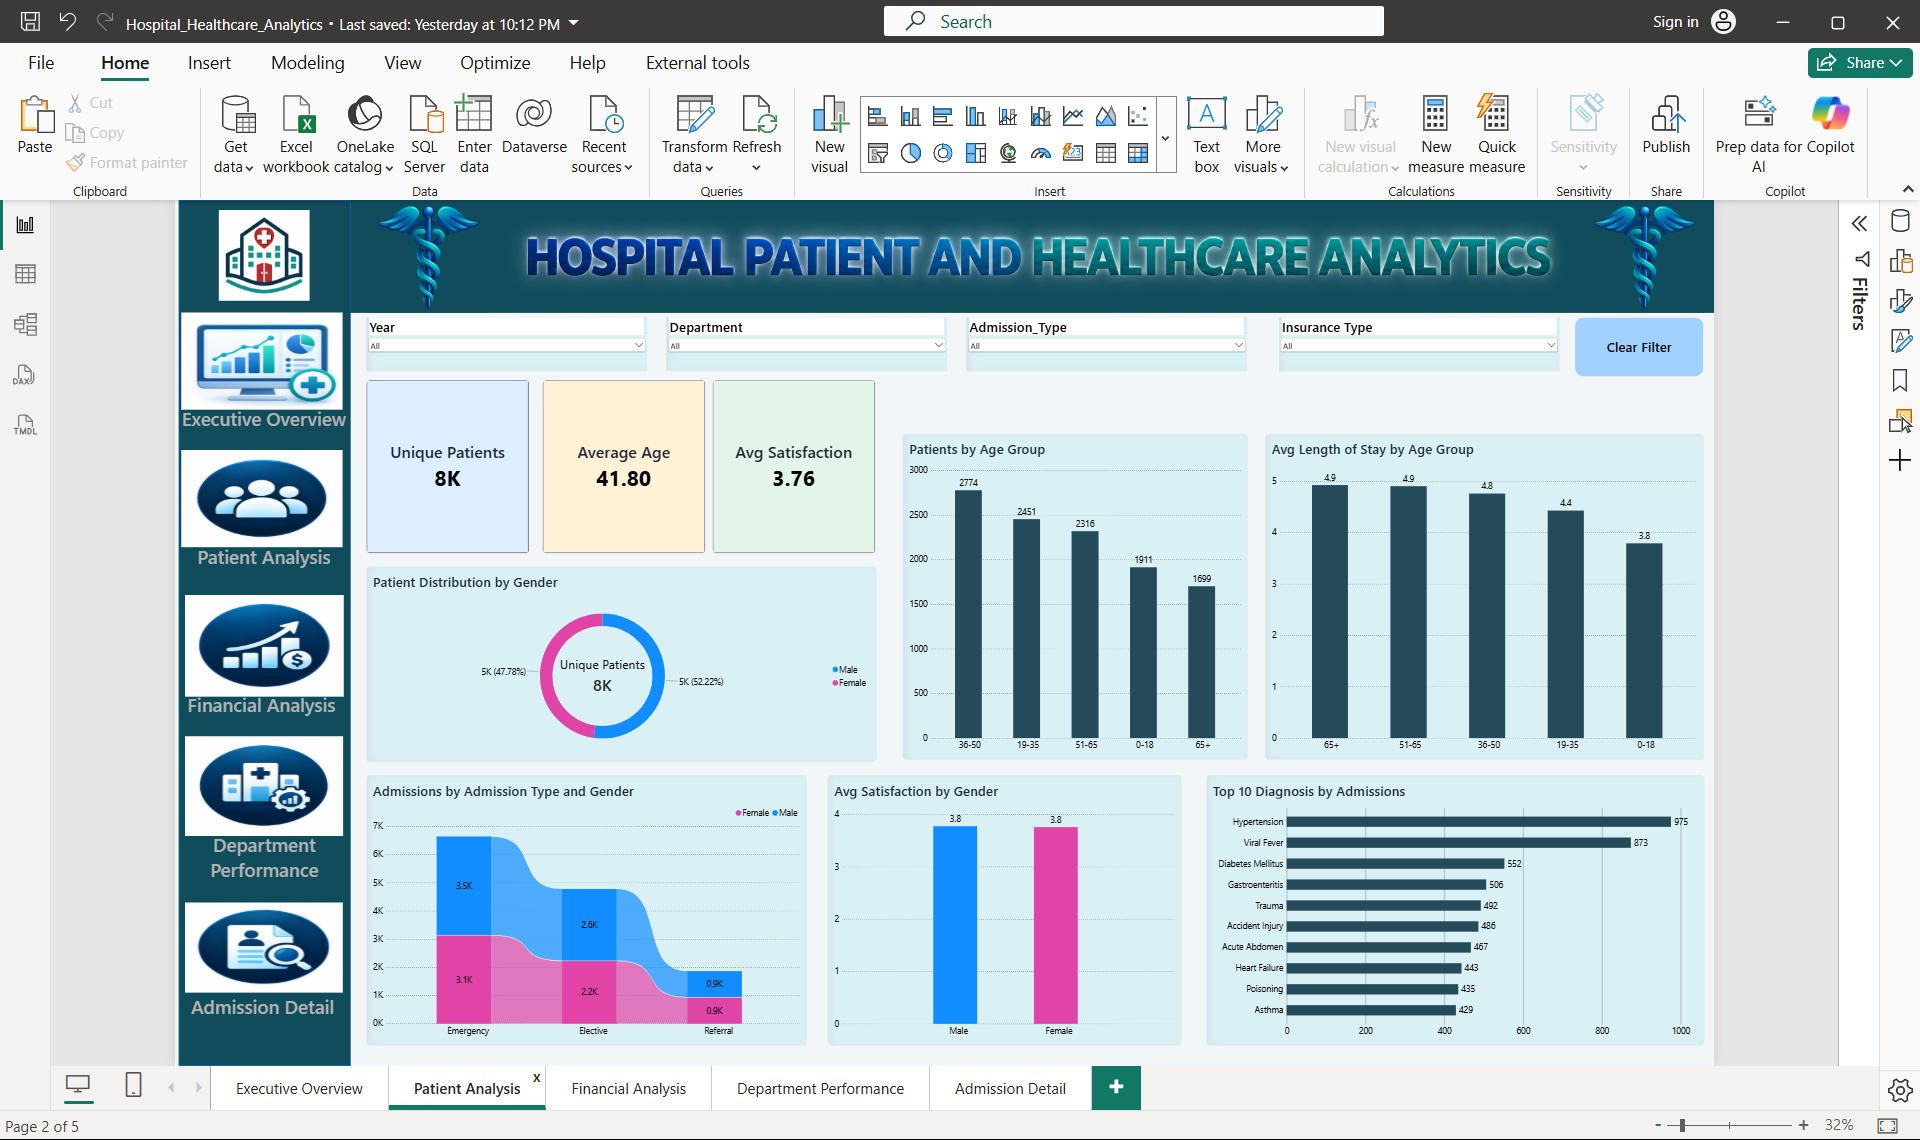

Layout of this report page (visuals, bound fields, positions):
{"tool":"powerbi","page":{"name":"Patient Analysis","canvas":[3840,2160],"ordinal":1},"visuals":[{"type":"textbox","box":[437.2,0,3402,281.3],"z":0},{"type":"image","box":[15.9,281.3,402.5,242.4],"z":0,"group":"g1"},{"type":"image","box":[15.9,622.1,402.5,242.4],"z":0,"group":"g2"},{"type":"image","box":[23,986.4,396.1,253.4],"z":0,"group":"g3"},{"type":"image","box":[26,1338.4,394.4,248.6],"z":0,"group":"g4"},{"type":"image","box":[26,1751.9,393.9,225.1],"z":0,"group":"g5"},{"type":"actionButton","box":[4.3,282.5,437.2,303],"z":1000,"group":"g1"},{"type":"cardVisual","title":"Total Revenue","fields":{"Data":["hospital_admissions_cleaned.Unique Patients"]},"box":[476.1,450.1,406.9,432.8],"z":1000},{"type":"actionButton","box":[4.3,623.3,437.2,303],"z":1000,"group":"g2"},{"type":"actionButton","box":[-4.3,982.5,437.2,316],"z":1000,"group":"g3"},{"type":"actionButton","box":[0,1320.1,445.8,389.5],"z":1000,"group":"g4"},{"type":"actionButton","box":[0,1731.3,437.2,320.3],"z":1000,"group":"g5"},{"type":"cardVisual","title":"Total Revenue","fields":{"Data":["hospital_admissions_cleaned.Average Age"]},"box":[917.6,450.1,406.9,432.8],"z":2000},{"type":"cardVisual","title":"Total Revenue","fields":{"Data":["hospital_admissions_cleaned.Avg Satisfaction"]},"box":[1341.8,450.1,406.9,432.8],"z":3000},{"type":"clusteredColumnChart","title":"Patients by Age Group","fields":{"Y":["hospital_admissions_cleaned.Unique Patients"],"Category":["hospital_admissions_cleaned.age_group"]},"box":[1813.6,584.3,861.3,813.7],"z":4000},{"type":"clusteredColumnChart","title":"Avg Length of Stay by Age Group","fields":{"Category":["hospital_admissions_cleaned.age_group"],"Y":["hospital_admissions_cleaned.Avg Length of Stay"]},"box":[2718.2,584.3,1095.1,813.7],"z":5000},{"type":"clusteredBarChart","title":"Top 10 Diagnosis by Admissions","fields":{"Category":["hospital_admissions_cleaned.diagnosis"],"Y":["hospital_admissions_cleaned.Total Admissions"]},"box":[2571,1432.7,1242.2,675.2],"z":6000},{"type":"donutChart","title":"Patient Distribution by Gender","fields":{"Category":["hospital_admissions_cleaned.gender"],"Y":["hospital_admissions_cleaned.Unique Patients"]},"box":[476.1,913.3,1272.5,489.1],"z":7000},{"type":"columnChart","title":"Admissions by Admission Type and Gender","fields":{"Category":["hospital_admissions_cleaned.admission_type"],"Series":["hospital_admissions_cleaned.gender"],"Y":["hospital_admissions_cleaned.Total Admissions"]},"box":[476.1,1432.7,1099.4,675.2],"z":8000},{"type":"clusteredColumnChart","title":"Avg Satisfaction by Gender","fields":{"Category":["hospital_admissions_cleaned.gender"],"Y":["hospital_admissions_cleaned.Avg Satisfaction"]},"box":[1627.4,1432.7,883,675.2],"z":9000},{"type":"shape","box":[8.7,0,428.5,2159.8],"z":10000},{"type":"slicer","fields":{"Values":["hospital_admissions_cleaned.admission_date.Variation.Date Hierarchy.Year"]},"box":[476.1,294.3,701.2,134.2],"z":11000},{"type":"slicer","fields":{"Values":["hospital_admissions_cleaned.department"]},"box":[1224.9,294.3,701.2,134.2],"z":12000},{"type":"slicer","fields":{"Values":["hospital_admissions_cleaned.admission_type"]},"box":[1973.7,294.3,701.2,134.2],"z":13000},{"type":"slicer","fields":{"Values":["hospital_admissions_cleaned.insurance_type"]},"box":[2752.8,294.3,701.2,134.2],"z":14000},{"type":"actionButton","box":[3492.9,294.3,320.3,147.2],"z":15000},{"type":"group","id":"g1","title":"Group 1","box":[4.3,281.3,437.2,303],"z":16000},{"type":"group","id":"g2","title":"Group 2","box":[4.3,622.1,437.2,304.2],"z":17000},{"type":"group","id":"g3","title":"Group 3","box":[-4.3,982.5,437.2,316],"z":18000},{"type":"group","id":"g4","title":"Group 4","box":[0,1320.1,445.8,389.5],"z":19000},{"type":"group","id":"g5","title":"Group 5","box":[0,1731.3,437.2,320.3],"z":20000},{"type":"image","box":[71.9,25.2,302,226.5],"z":20001},{"type":"image","box":[827,25.2,2653.5,226.5],"z":20002},{"type":"image","box":[481.8,0,298.4,280.4],"z":20003},{"type":"image","box":[3516.4,0,298.4,280.4],"z":20004}]}

Visuals, with their boxes on the page's 3840x2160 design canvas (x1, y1, x2, y2). These are canvas units, not pixel positions in the 1920x1140 screenshot, which may show the page scaled, cropped or inside an application window:
textbox: <box>437,0,3839,281</box>
image: <box>16,281,418,524</box>
image: <box>16,622,418,864</box>
image: <box>23,986,419,1240</box>
image: <box>26,1338,420,1587</box>
image: <box>26,1752,420,1977</box>
actionButton: <box>4,282,442,586</box>
"Total Revenue" cardVisual: <box>476,450,883,883</box>
actionButton: <box>4,623,442,926</box>
actionButton: <box>-4,982,433,1298</box>
actionButton: <box>0,1320,446,1710</box>
actionButton: <box>0,1731,437,2052</box>
"Total Revenue" cardVisual: <box>918,450,1324,883</box>
"Total Revenue" cardVisual: <box>1342,450,1749,883</box>
"Patients by Age Group" clusteredColumnChart: <box>1814,584,2675,1398</box>
"Avg Length of Stay by Age Group" clusteredColumnChart: <box>2718,584,3813,1398</box>
"Top 10 Diagnosis by Admissions" clusteredBarChart: <box>2571,1433,3813,2108</box>
"Patient Distribution by Gender" donutChart: <box>476,913,1749,1402</box>
"Admissions by Admission Type and Gender" columnChart: <box>476,1433,1576,2108</box>
"Avg Satisfaction by Gender" clusteredColumnChart: <box>1627,1433,2510,2108</box>
shape: <box>9,0,437,2160</box>
slicer - hospital_admissions_cleaned.admission_date.Variation.Date Hierarchy.Year: <box>476,294,1177,428</box>
slicer - hospital_admissions_cleaned.department: <box>1225,294,1926,428</box>
slicer - hospital_admissions_cleaned.admission_type: <box>1974,294,2675,428</box>
slicer - hospital_admissions_cleaned.insurance_type: <box>2753,294,3454,428</box>
actionButton: <box>3493,294,3813,442</box>
"Group 1" group: <box>4,281,442,584</box>
"Group 2" group: <box>4,622,442,926</box>
"Group 3" group: <box>-4,982,433,1298</box>
"Group 4" group: <box>0,1320,446,1710</box>
"Group 5" group: <box>0,1731,437,2052</box>
image: <box>72,25,374,252</box>
image: <box>827,25,3480,252</box>
image: <box>482,0,780,280</box>
image: <box>3516,0,3815,280</box>
